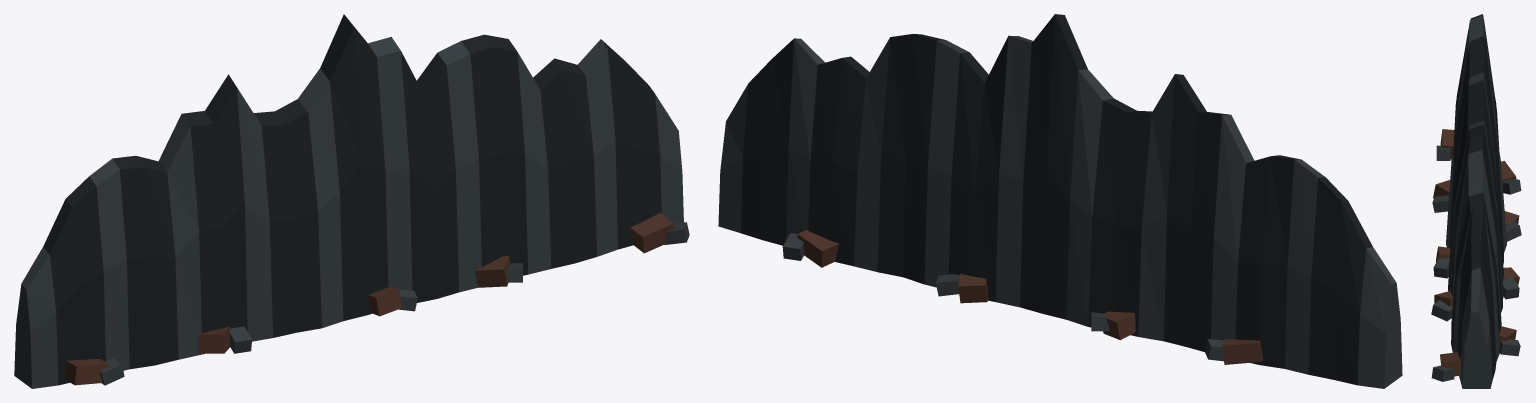
File: w3_shiprock_dike.glb
3 renders of one model, left to right at view 1: azimuth 30°, elevation 25°; view 2: azimuth 150°, elevation 25°; view 3: azimuth 270°, elevation 25°, orthographic. The views are drawn at different scales.
Visible parts, largest first — view 1: ShiprockDike; view 2: ShiprockDike; view 3: ShiprockDike.
Boxes of the visible parts, x1=… form: ShiprockDike: x1=14, y1=14, x2=689, y2=388; ShiprockDike: x1=718, y1=14, x2=1402, y2=388; ShiprockDike: x1=1431, y1=14, x2=1521, y2=388.
Bounding box in the file's own units: 84 × 35.22 × 12.68.
